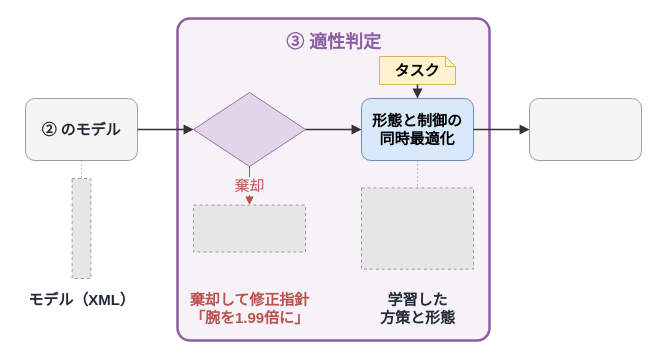
Some shapes in this 659 by 359 pixel diagram are drawn without their labels. Grey dashed boxes stand in for pictures. The shapes that lost their labels are listed below. From the top down, each one's box as (x1, y1, x2, y2) in pixels, then its label:
(192, 92, 306, 166): 第1層 （幾何）
(528, 98, 642, 160): ④ 診断と 修正指針へ
